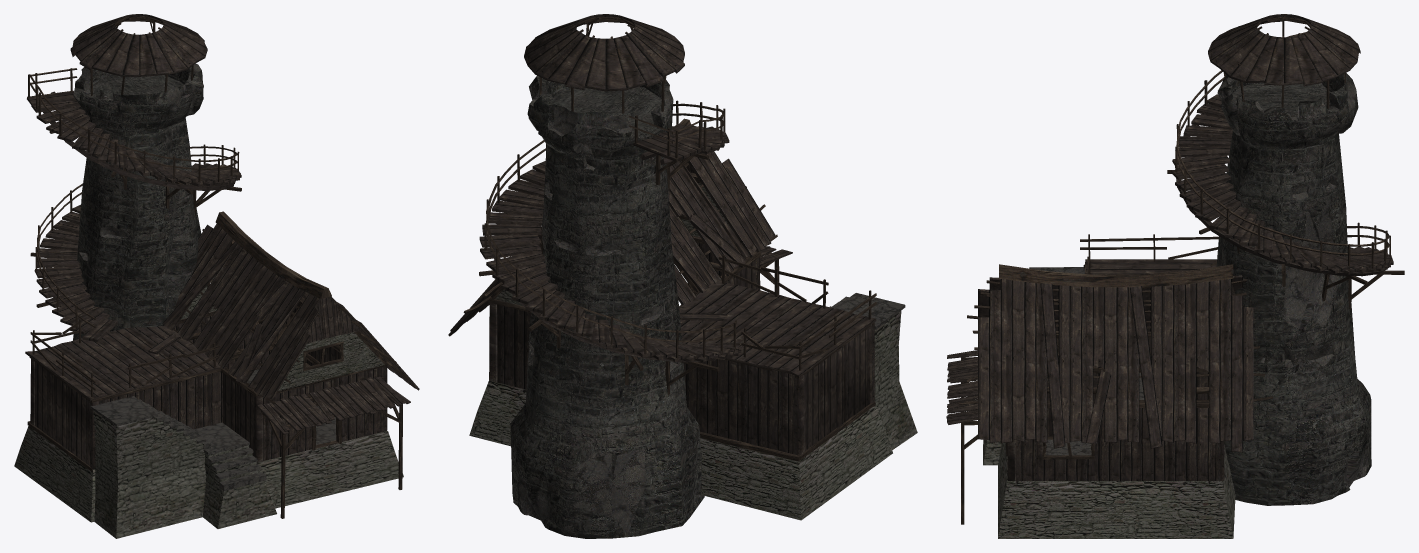
File: G3_Myrtana_House_Guardhouse_01.obj
3 renders of one model, left to right at view 1: azimuth 30°, elevation 25°; view 2: azimuth 150°, elevation 25°; view 3: azimuth 270°, elevation 25°, orthographic. The views are drawn at different scales.
Visible parts, largest first — view 1: G3_Myrtana_House_Guardhouse_01_3, G3_Myrtana_House_Guardhouse_01_0, G3_Myrtana_House_Guardhouse_01_1, G3_Myrtana_House_Guardhouse_01_4, G3_Myrtana_House_Guardhouse_01_2; view 2: G3_Myrtana_House_Guardhouse_01_3, G3_Myrtana_House_Guardhouse_01_1, G3_Myrtana_House_Guardhouse_01_0, G3_Myrtana_House_Guardhouse_01_4, G3_Myrtana_House_Guardhouse_01_2; view 3: G3_Myrtana_House_Guardhouse_01_3, G3_Myrtana_House_Guardhouse_01_1, G3_Myrtana_House_Guardhouse_01_0, G3_Myrtana_House_Guardhouse_01_4, G3_Myrtana_House_Guardhouse_01_2.
Boxes of the visible parts, x1=… form: G3_Myrtana_House_Guardhouse_01_3: x1=25, y1=14, x2=419, y2=469; G3_Myrtana_House_Guardhouse_01_0: x1=14, y1=276, x2=403, y2=538; G3_Myrtana_House_Guardhouse_01_1: x1=73, y1=63, x2=203, y2=340; G3_Myrtana_House_Guardhouse_01_4: x1=27, y1=16, x2=408, y2=518; G3_Myrtana_House_Guardhouse_01_2: x1=75, y1=64, x2=336, y2=490; G3_Myrtana_House_Guardhouse_01_3: x1=448, y1=14, x2=876, y2=455; G3_Myrtana_House_Guardhouse_01_1: x1=510, y1=75, x2=704, y2=538; G3_Myrtana_House_Guardhouse_01_0: x1=469, y1=183, x2=917, y2=520; G3_Myrtana_House_Guardhouse_01_4: x1=463, y1=17, x2=876, y2=461; G3_Myrtana_House_Guardhouse_01_2: x1=518, y1=81, x2=905, y2=536; G3_Myrtana_House_Guardhouse_01_3: x1=946, y1=14, x2=1393, y2=480; G3_Myrtana_House_Guardhouse_01_1: x1=1216, y1=73, x2=1371, y2=505; G3_Myrtana_House_Guardhouse_01_0: x1=983, y1=439, x2=1235, y2=538; G3_Myrtana_House_Guardhouse_01_4: x1=959, y1=16, x2=1404, y2=524; G3_Myrtana_House_Guardhouse_01_2: x1=1029, y1=77, x2=1368, y2=487.
Bounding box in the file's own units: 17.38 × 22.35 × 20.94.
